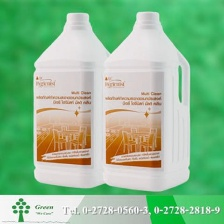cleaning_solution: (97, 7, 192, 194), (29, 9, 117, 192)
